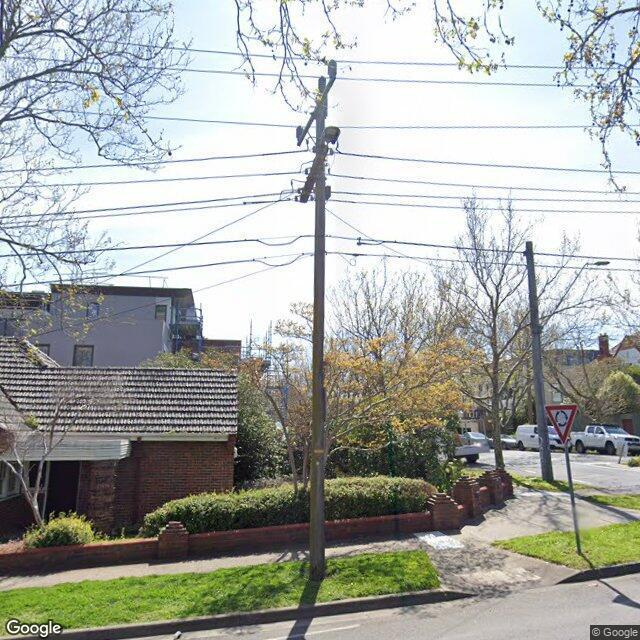HV-transmission: (296, 59, 338, 146)
crossarm: (297, 76, 337, 146), (294, 146, 329, 203)
streetlight: (540, 260, 610, 334), (324, 125, 342, 154)
timber-pole: (308, 103, 327, 581), (526, 241, 554, 482)
